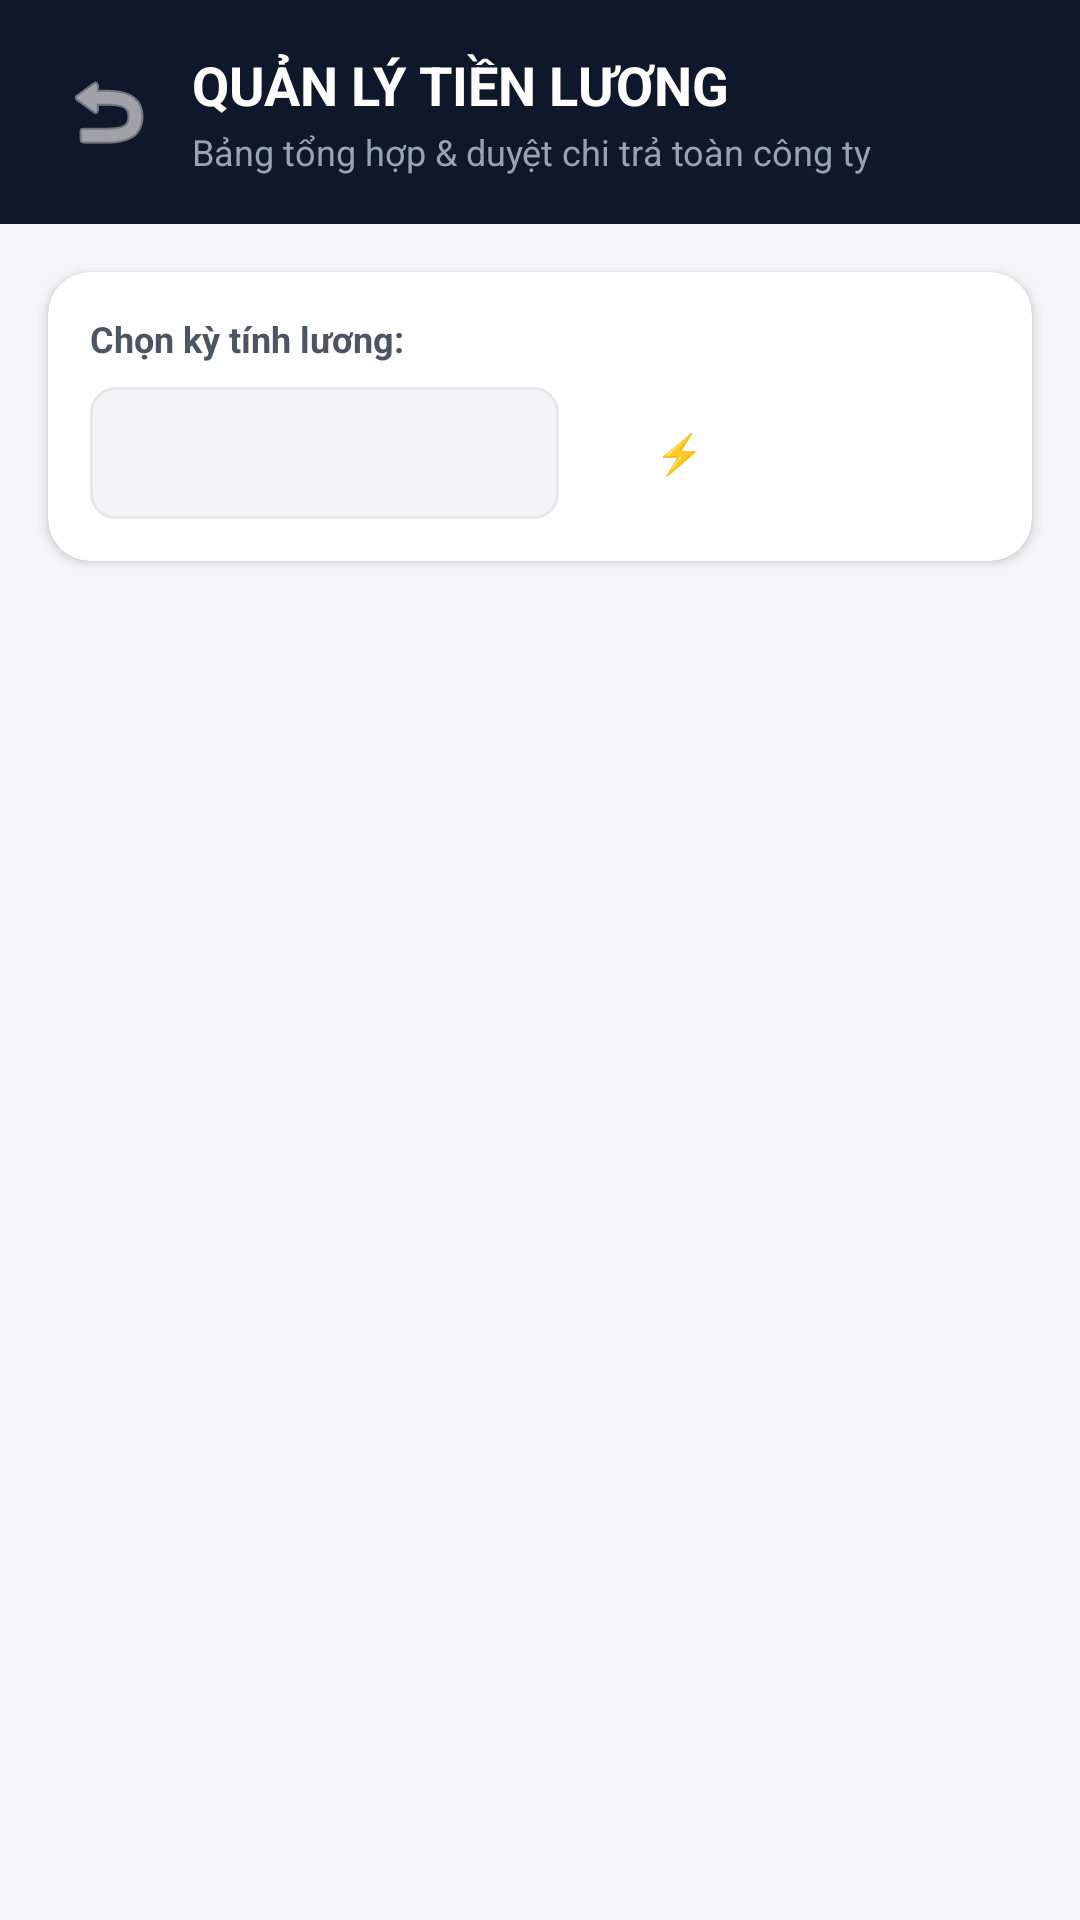

Where icons sit on this 1080 × 1920 app screen, as bbox=[x1, y1, x2, y2]:
revert: bbox=[75, 81, 144, 144]
